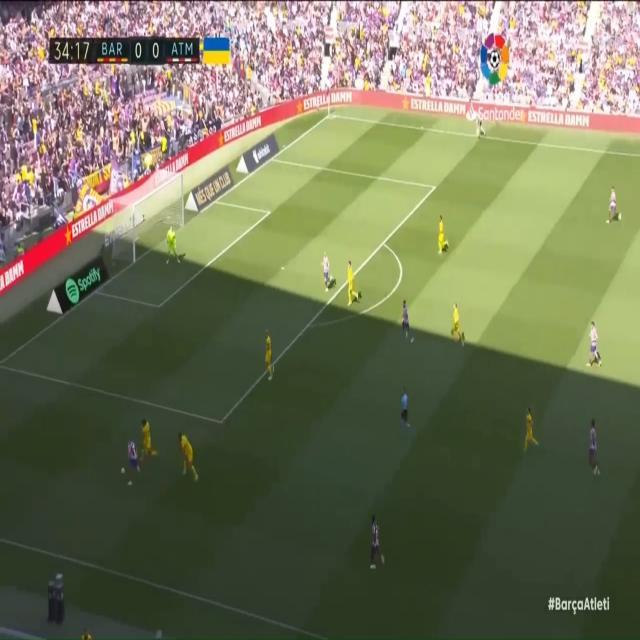ball: (117, 462, 127, 483)
goalkeeper: (163, 218, 182, 270)
player: (357, 500, 385, 574), (448, 284, 472, 356), (123, 428, 147, 496), (580, 413, 603, 482), (255, 325, 278, 388), (176, 427, 199, 483), (399, 274, 417, 339), (138, 413, 159, 468), (522, 398, 540, 459), (586, 318, 604, 374), (344, 257, 361, 307), (606, 180, 622, 232), (434, 212, 451, 260), (320, 242, 335, 295)
referee: (394, 368, 415, 436), (471, 107, 488, 140)
